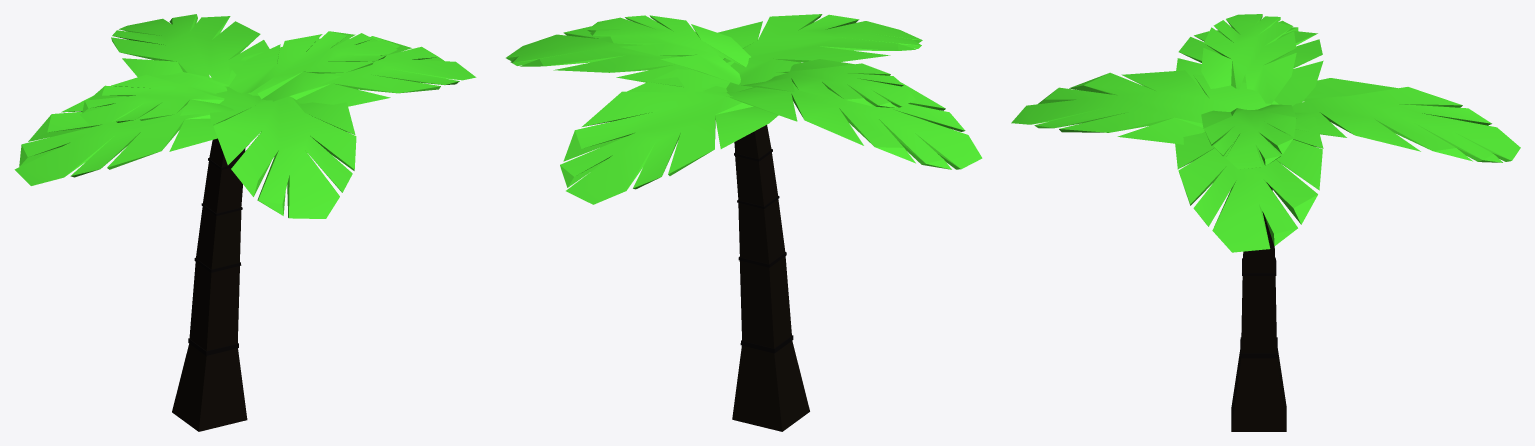
File: petit_palmier.FBX
3 renders of one model, left to right at view 1: azimuth 30°, elevation 25°; view 2: azimuth 150°, elevation 25°; view 3: azimuth 270°, elevation 25°, orthographic. The views are drawn at different scales.
Parts seen in each view (by area): view 1: feuille004, tronc, feuille005, feuille006, feuille008, feuille007, feuille009; view 2: feuille006, tronc, feuille005, feuille004, feuille008, feuille007, feuille009; view 3: feuille007, feuille004, feuille006, tronc, feuille009, feuille008, feuille005.
Part boxes in pixels (x1,y1,x2,y2): feuille004: [210, 86, 356, 218]; tronc: [172, 138, 247, 431]; feuille005: [14, 72, 228, 185]; feuille006: [111, 14, 274, 95]; feuille008: [228, 31, 397, 101]; feuille007: [228, 36, 476, 106]; feuille009: [79, 74, 234, 124]; feuille006: [560, 69, 778, 204]; tronc: [732, 125, 809, 431]; feuille005: [726, 82, 982, 169]; feuille004: [718, 14, 922, 92]; feuille008: [587, 15, 750, 84]; feuille007: [506, 26, 733, 92]; feuille009: [741, 59, 915, 107]; feuille007: [1175, 112, 1323, 252]; feuille004: [1011, 70, 1278, 144]; feuille006: [1292, 78, 1520, 162]; tronc: [1231, 182, 1286, 431]; feuille009: [1201, 14, 1296, 103]; feuille008: [1201, 104, 1296, 169]; feuille005: [1176, 27, 1323, 106].
Bounding box in the file's own units: 81.63 × 59.48 × 78.68.
